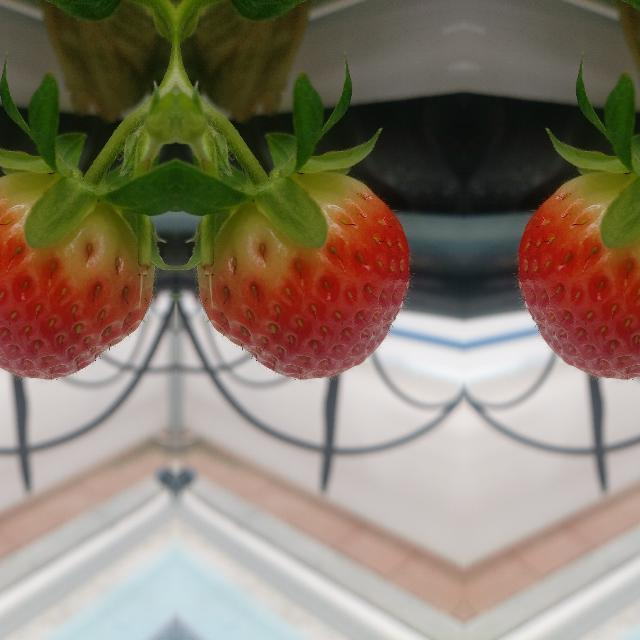Health_100: (196, 172, 408, 378), (0, 172, 154, 378), (518, 172, 640, 378)
